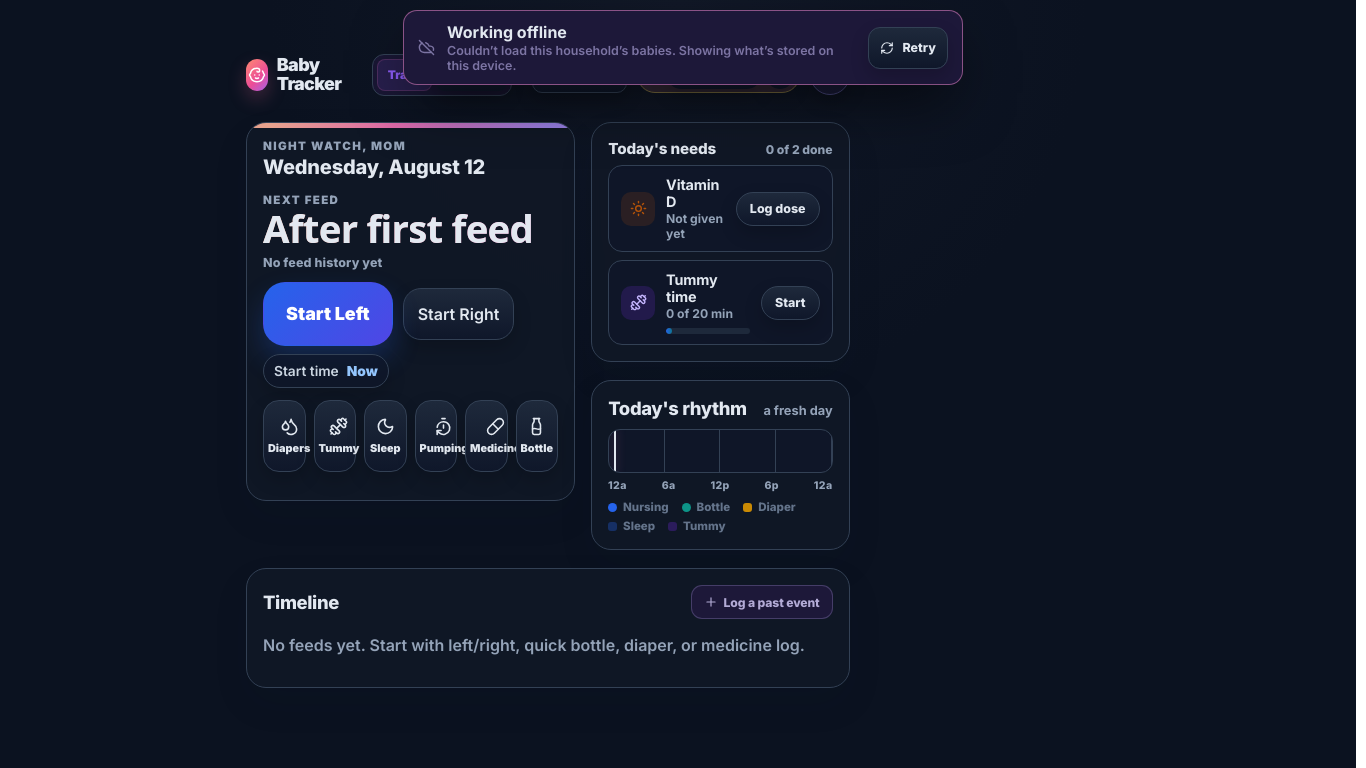
Test: startup states › retries the failed load on demand and clears the notice on success
Check: the text "Couldn’t load this household’s babies" is shown, box [447,43,834,73]
Click the button with aria-label "Retry connecting" at (908, 48), box [868,26,948,68]
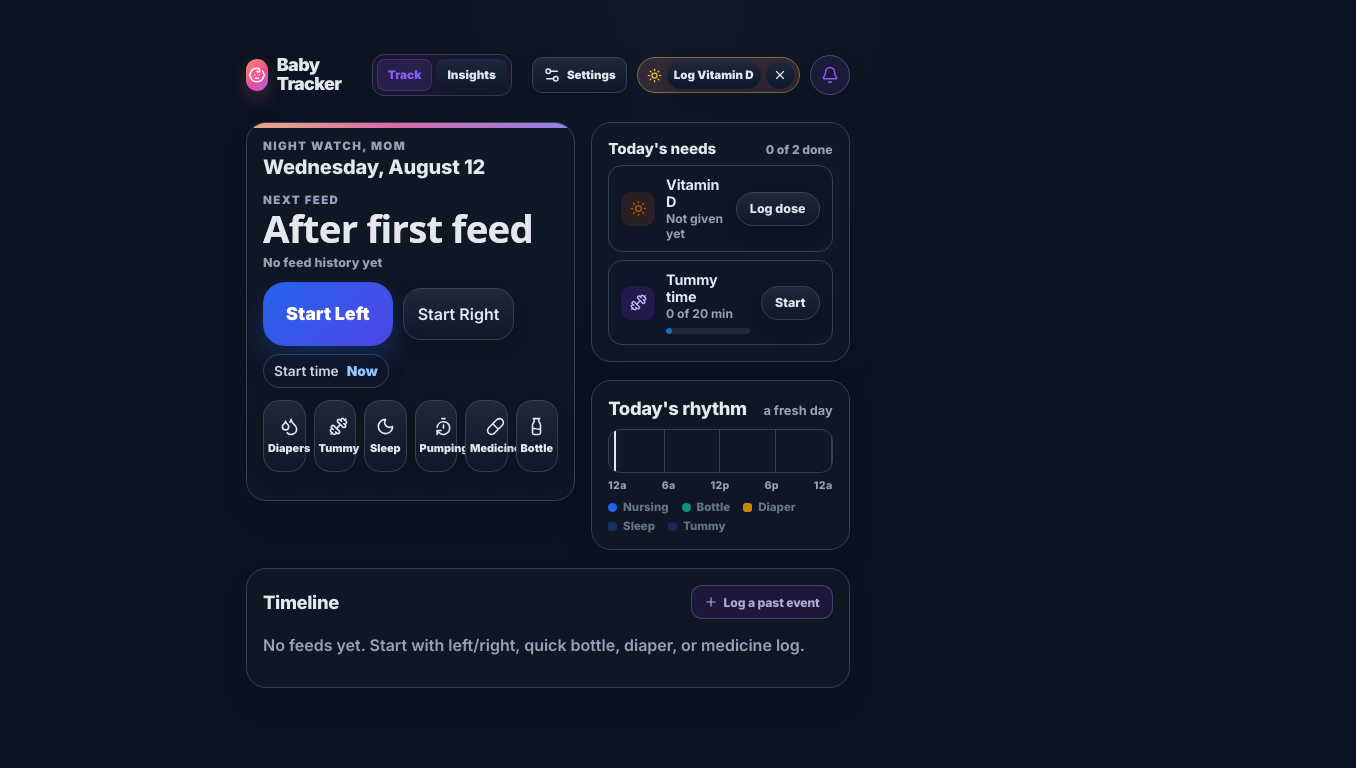
Check: the text "Couldn’t load this household’s babies" is gone
